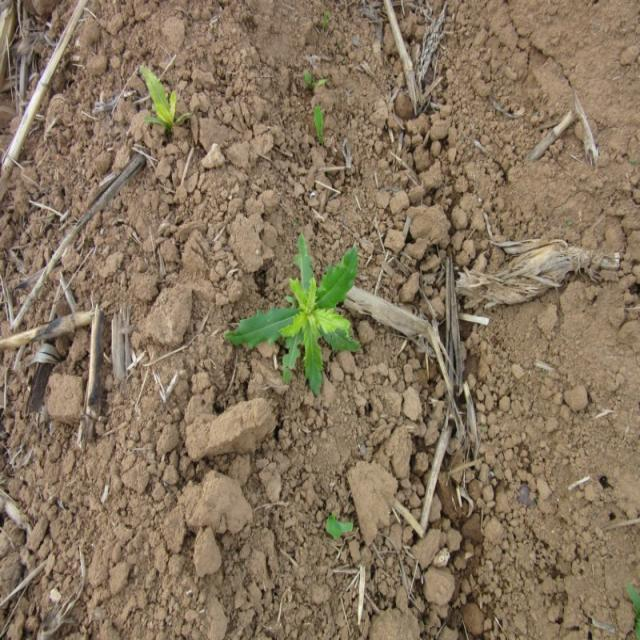cs: (226, 232, 361, 400)
